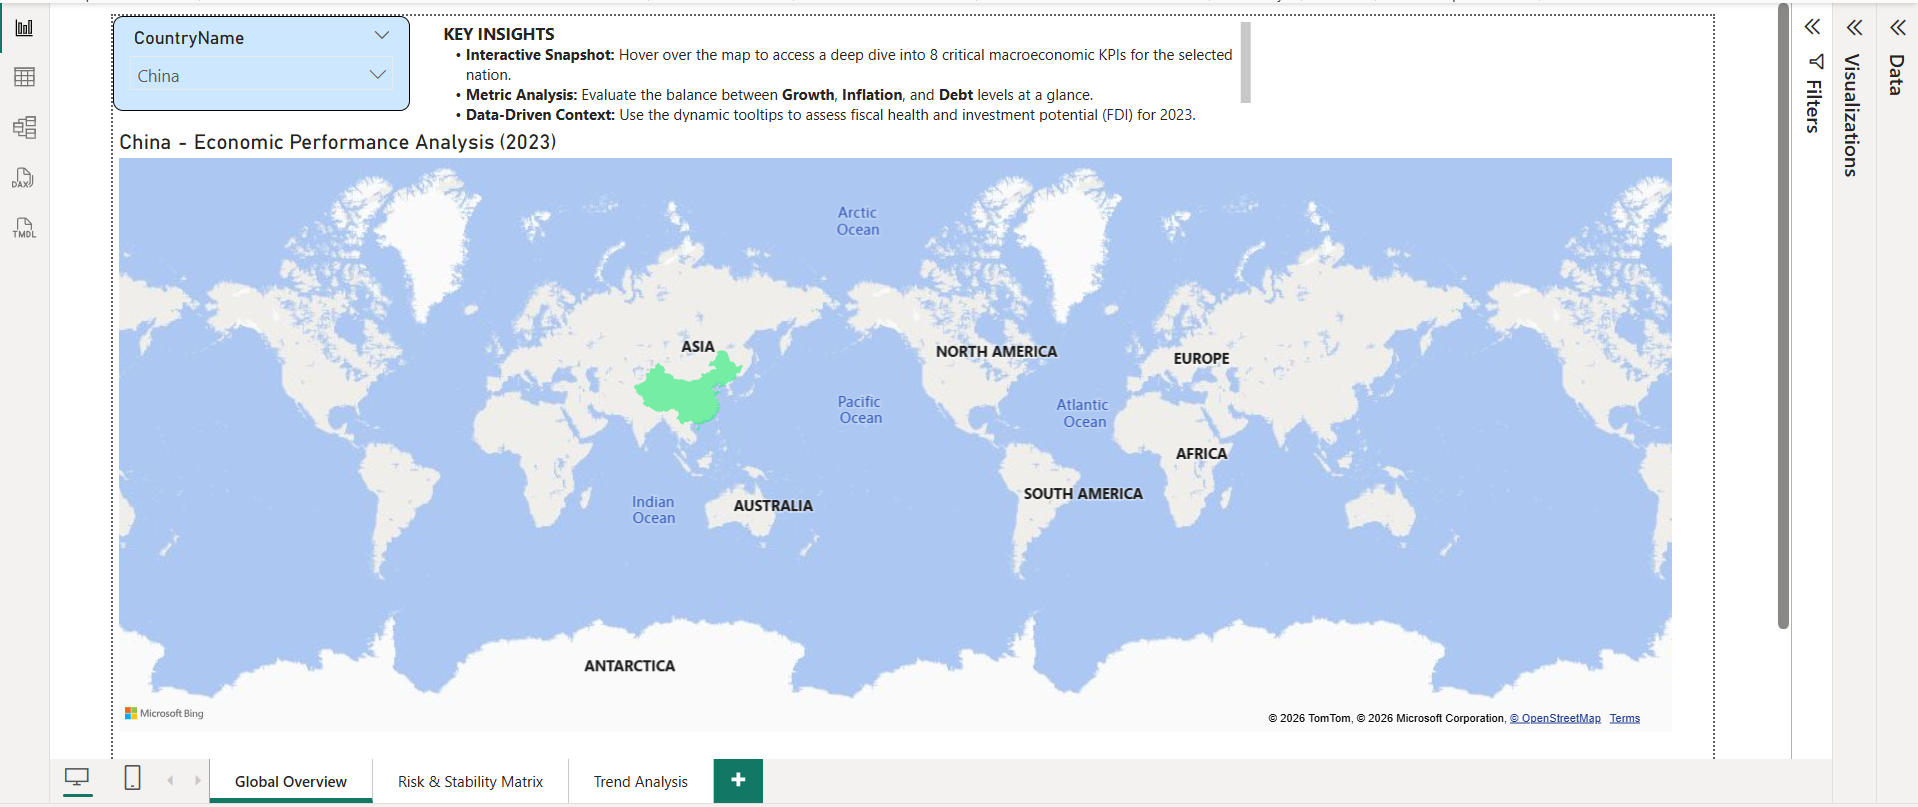

What the dashboard file says about the page in this screenshot:
{"tool":"powerbi","page":{"name":"Global Overview","canvas":[1280,720],"ordinal":0},"visuals":[{"type":"filledMap","fields":{"Category":["v_MasterScorecard2023.CountryName"]},"box":[0,90,882.2,487.8],"z":0},{"type":"slicer","fields":{"Values":["v_MasterScorecard2023.CountryName"]},"box":[0,0,237.7,76],"z":1000},{"type":"textbox","box":[259,0,656,90],"z":2000}]}

Visuals, with their boxes on the page's 1280x720 design canvas (x1, y1, x2, y2). These are canvas units, not pixel positions in the 1918x807 screenshot, which may show the page scaled, cropped or inside an application window:
filledMap - v_MasterScorecard2023.CountryName: 0 90 882 578
slicer - v_MasterScorecard2023.CountryName: 0 0 238 76
textbox: 259 0 915 90
